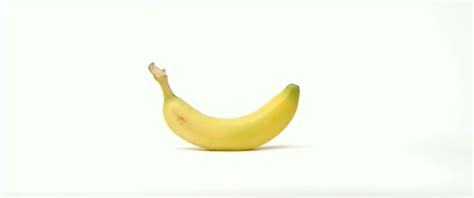banana: (158, 81, 304, 150)
